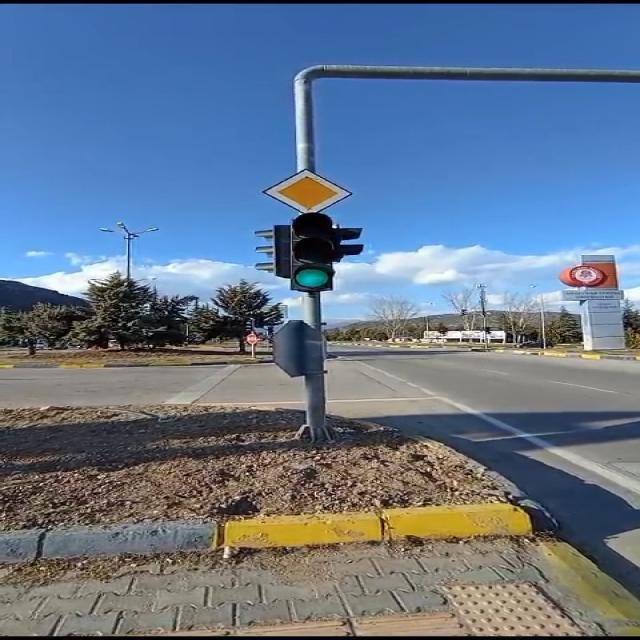yesil: (291, 213, 364, 299)
